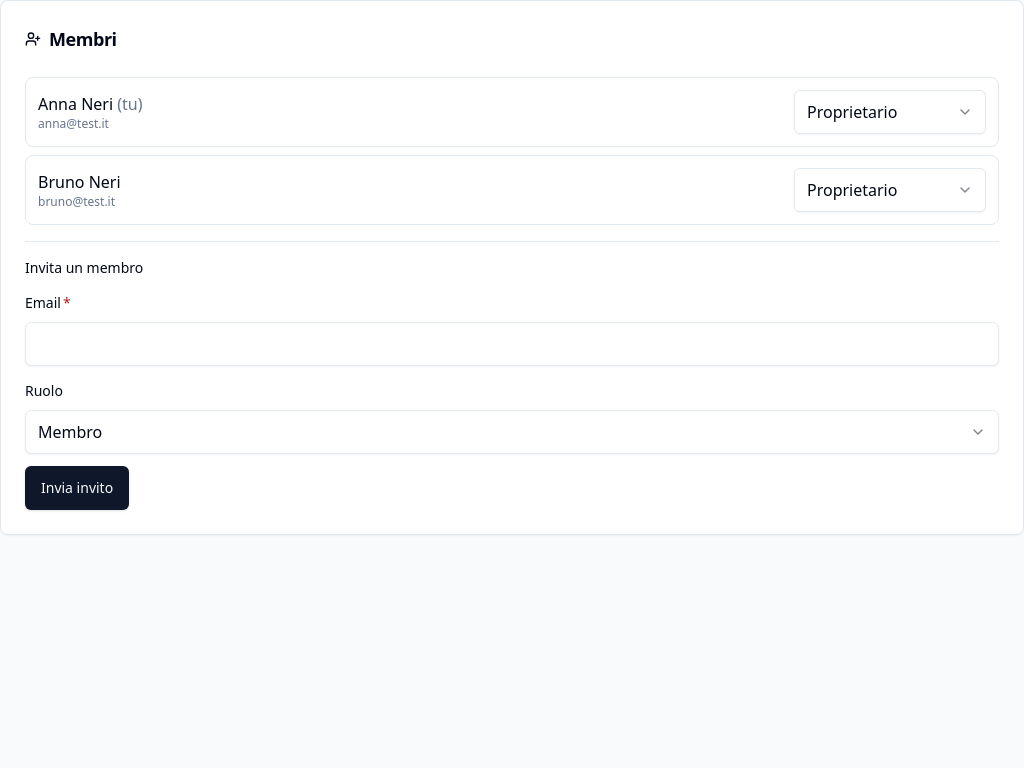
Test: MembersCard — cambio di ruolo › se la rilettura di /api/auth/me fallisce dopo il cambio del proprio ruolo non c'è un toast d'errore e lo store segue il PATCH
The image size is (1024, 768).
Click the dropdown named "Cambia il ruolo di Anna Neri" at (890, 112), box [794,90,986,134]
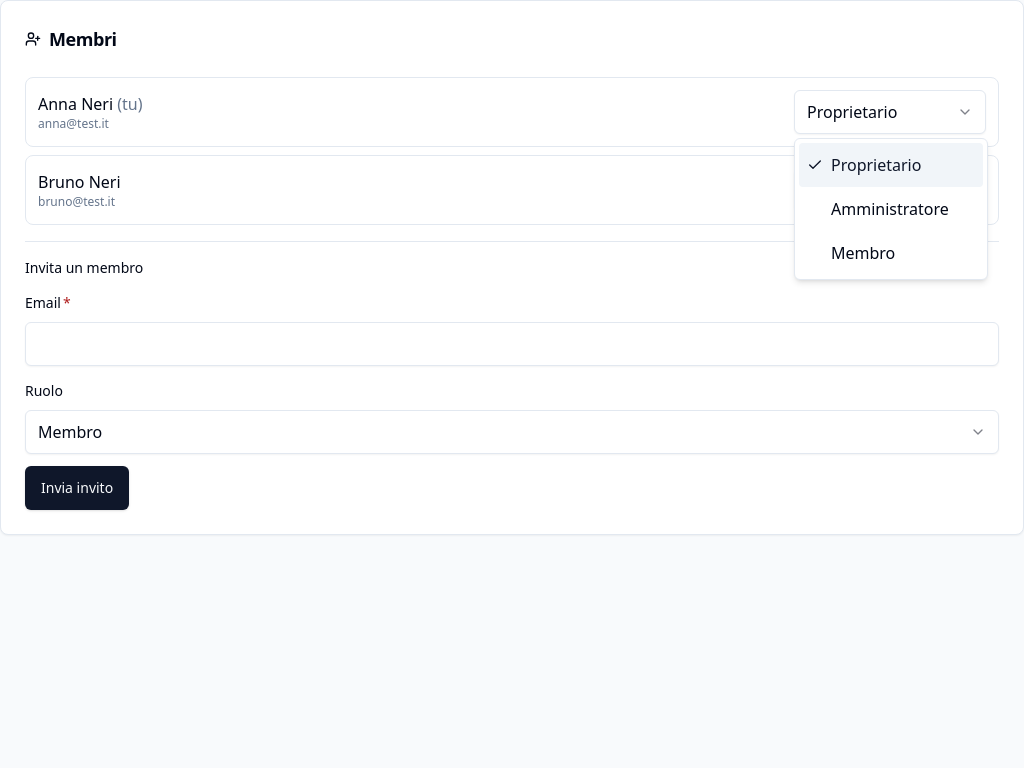
Click the option "Membro" at (863, 253), box [831,242,895,264]
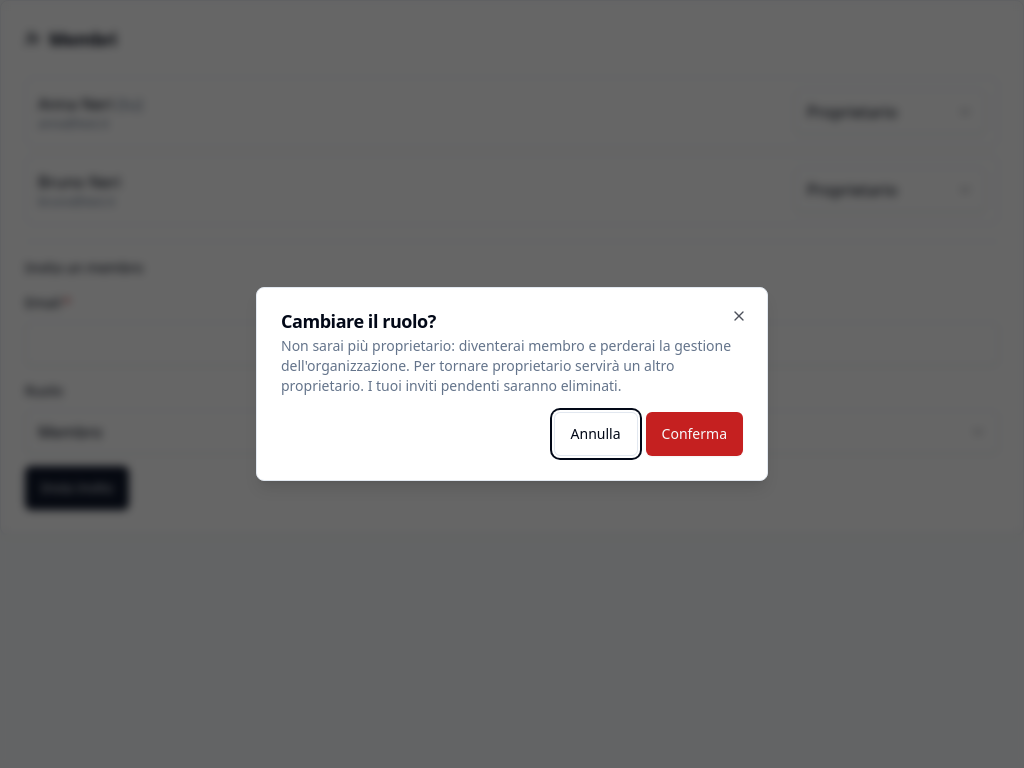
Click the button "Conferma" at (694, 434), box [646,412,743,456]
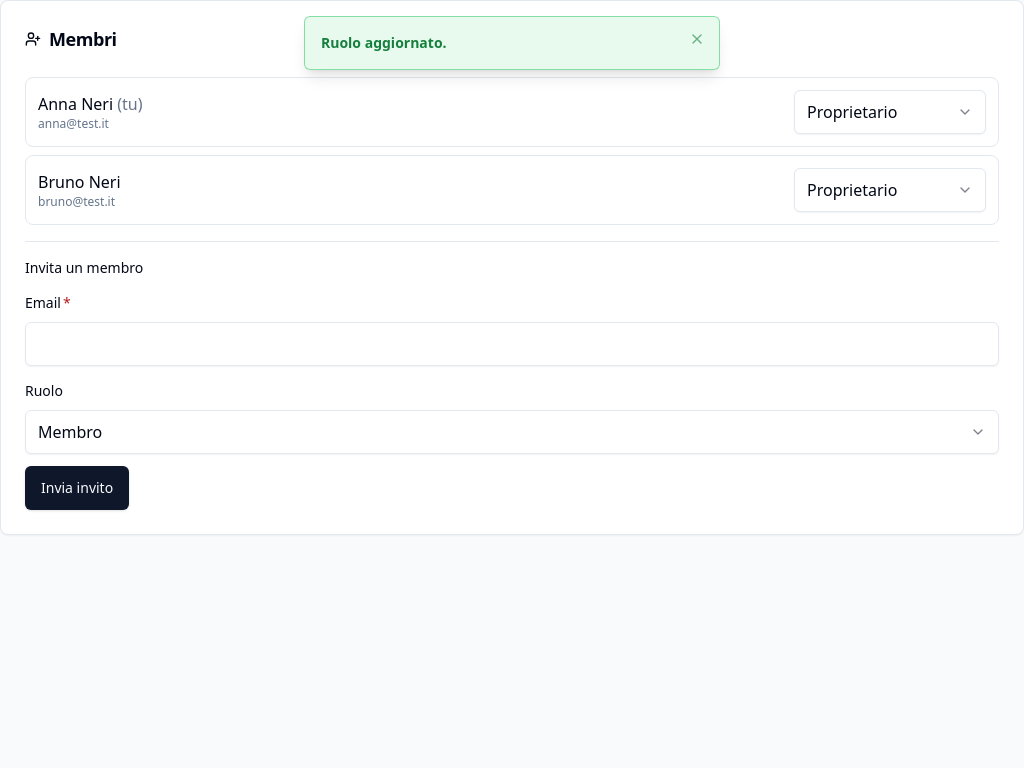
Expected: the text "Ruolo aggiornato." is shown, [321,33,446,53]
